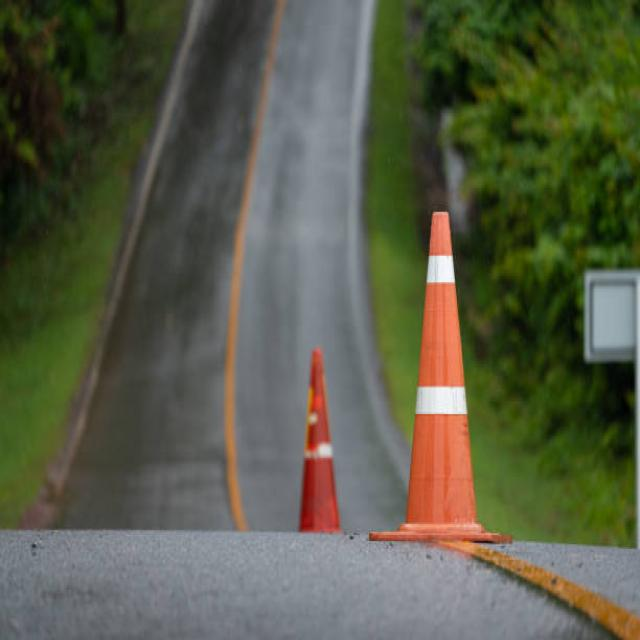Traffic Cone: (368, 178, 518, 573)
